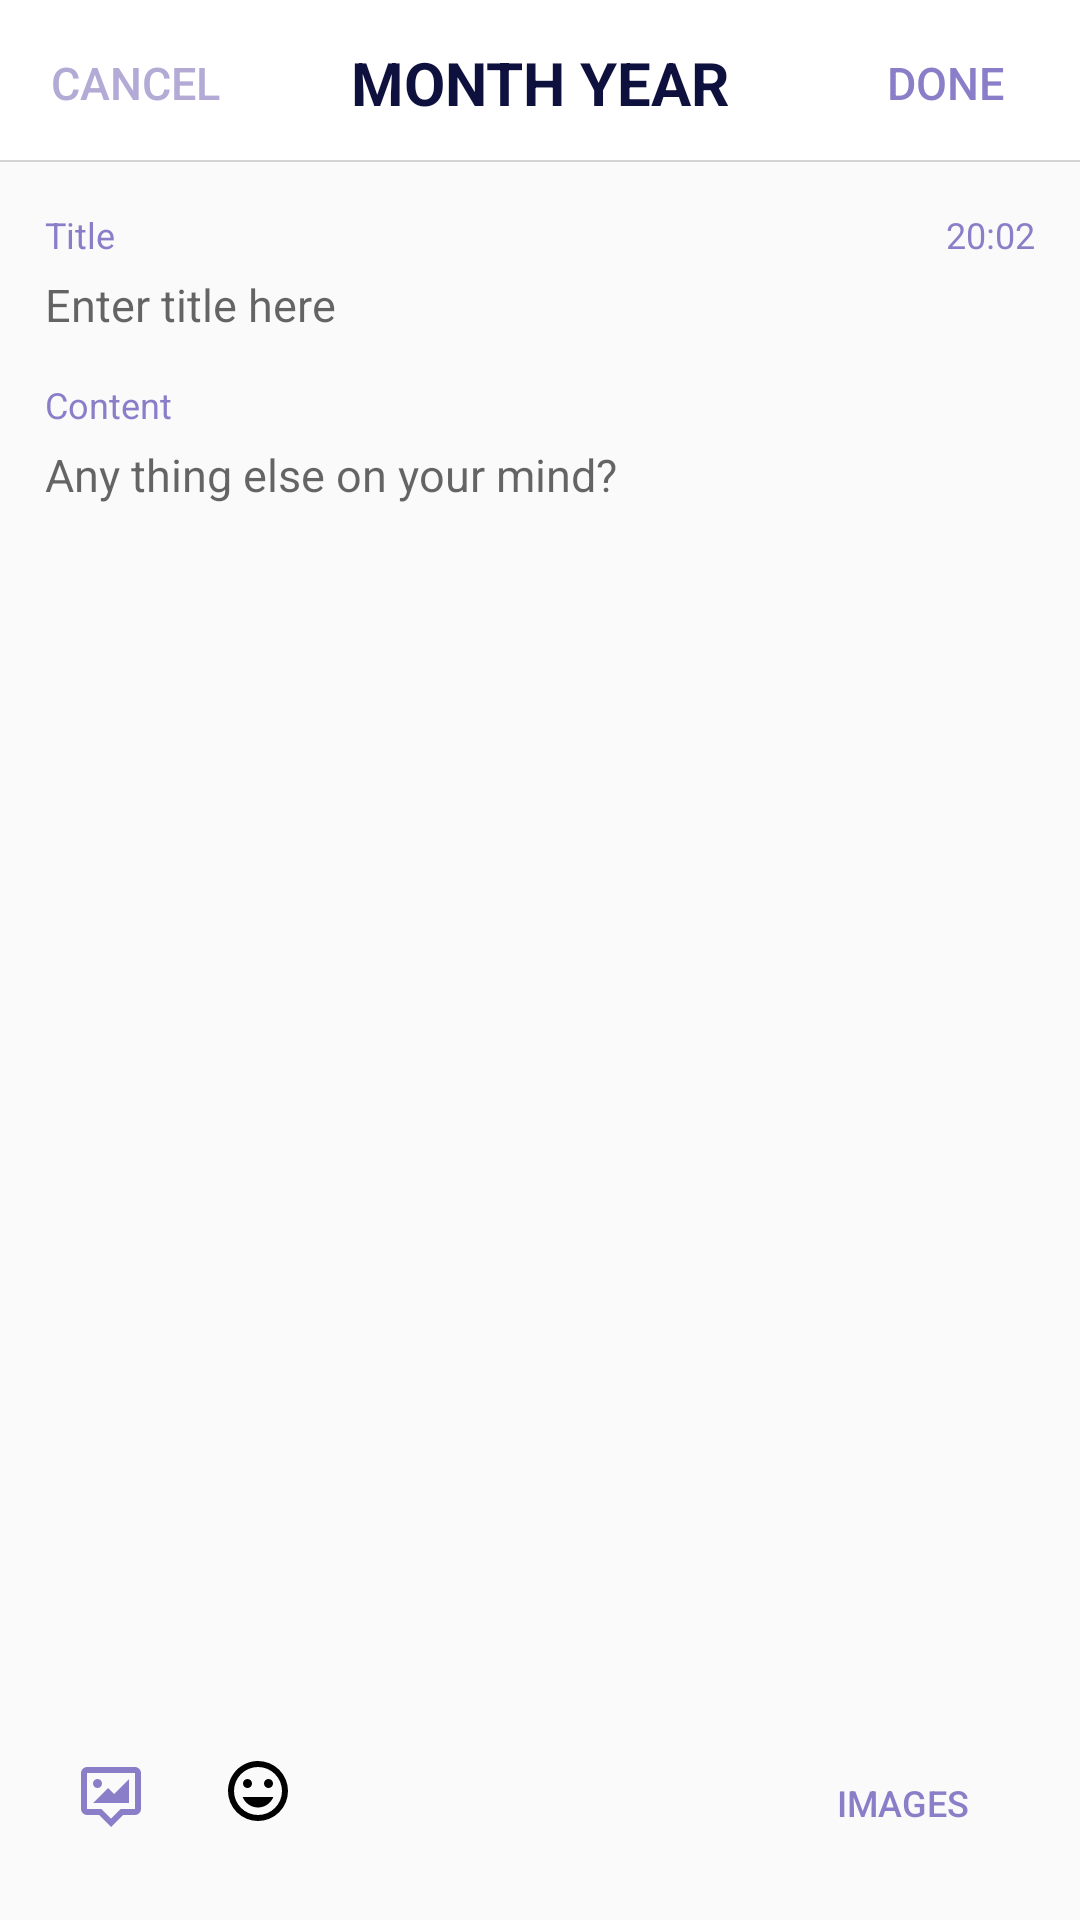

Icons on this 1080w x 1920h Android screen, each with its box as [x1=x1, y1=y1, x2=x2, y2=y2]:
gallery: [x1=81, y1=1767, x2=141, y2=1827]
moods: [x1=228, y1=1761, x2=288, y2=1821]
